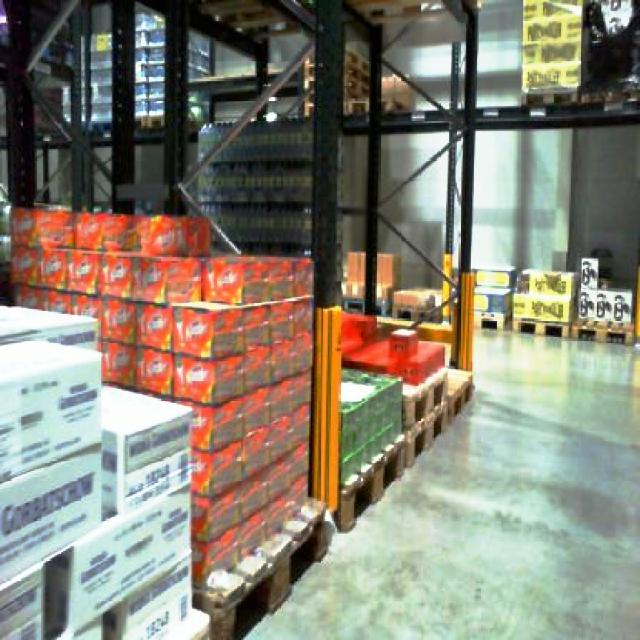ground: (211, 312, 638, 638)
pallet: (5, 203, 328, 638), (0, 297, 211, 638), (312, 303, 472, 531), (342, 249, 638, 348), (191, 494, 331, 638), (466, 262, 638, 345), (511, 268, 577, 337), (342, 249, 398, 314), (632, 260, 638, 349)
